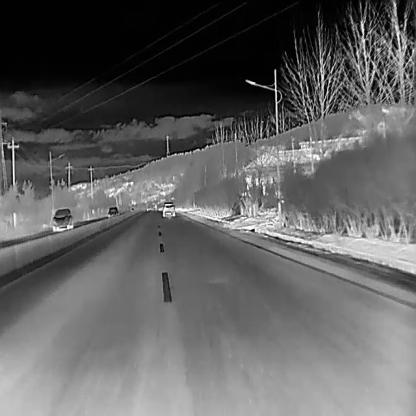car: (52, 208, 72, 232), (162, 201, 174, 217), (107, 205, 118, 217)
